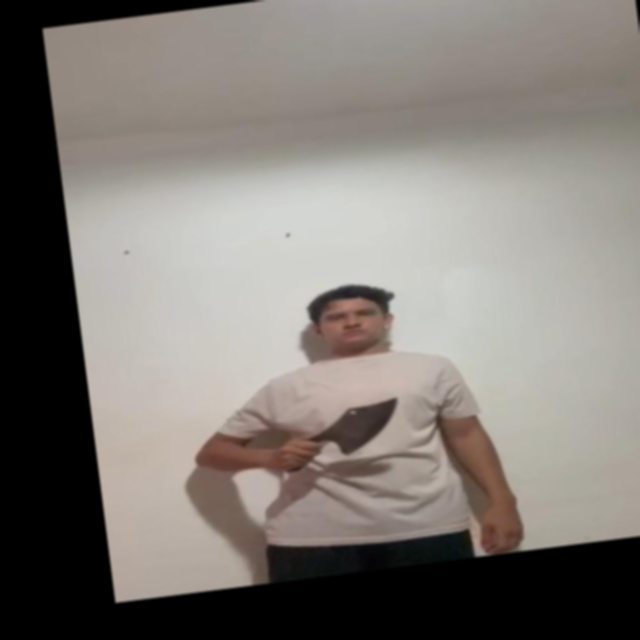Sharp-Object: (319, 392, 405, 459)
